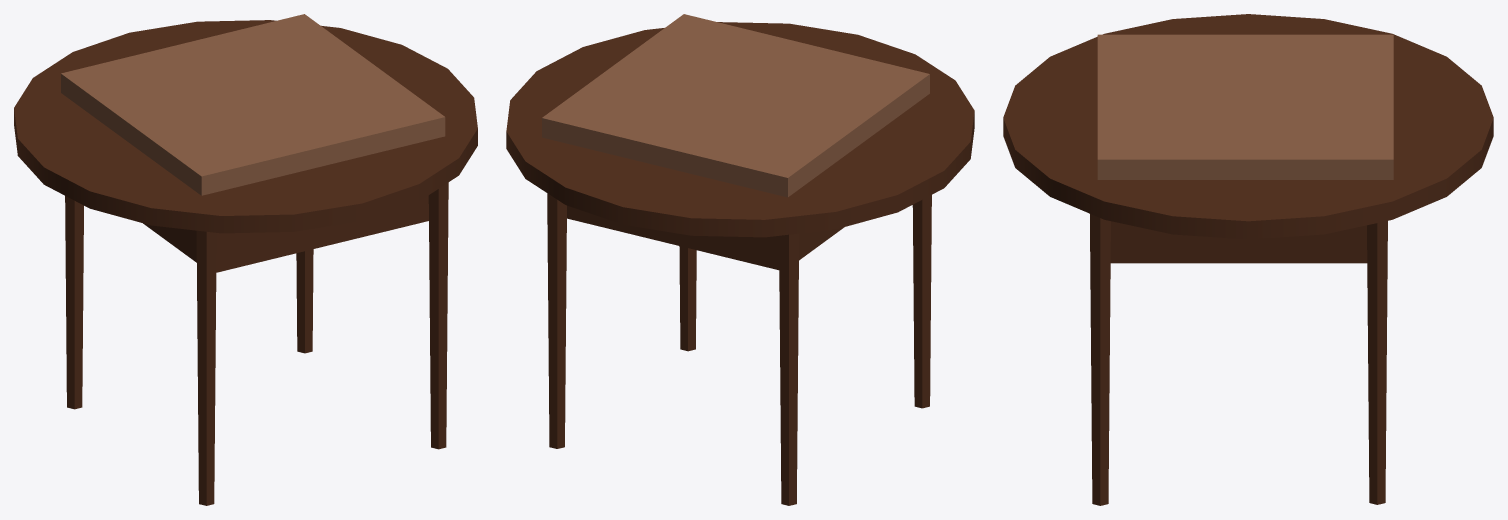
File: chess table.fbx
3 views of the same model, side by side, from view 1: azimuth 30°, elevation 25°; view 2: azimuth 150°, elevation 25°; view 3: azimuth 270°, elevation 25° (orthographic). The views are drawn at different scales.
Visible parts, largest first — view 1: pCylinder28; view 2: pCylinder28; view 3: pCylinder28.
Boxes of the visible parts, x1,y1,x2,y2 form: pCylinder28: [14, 14, 477, 505]; pCylinder28: [506, 14, 974, 505]; pCylinder28: [1003, 14, 1493, 505].
Size of the model in its own units: 7.03 by 5.46 by 7.03.
